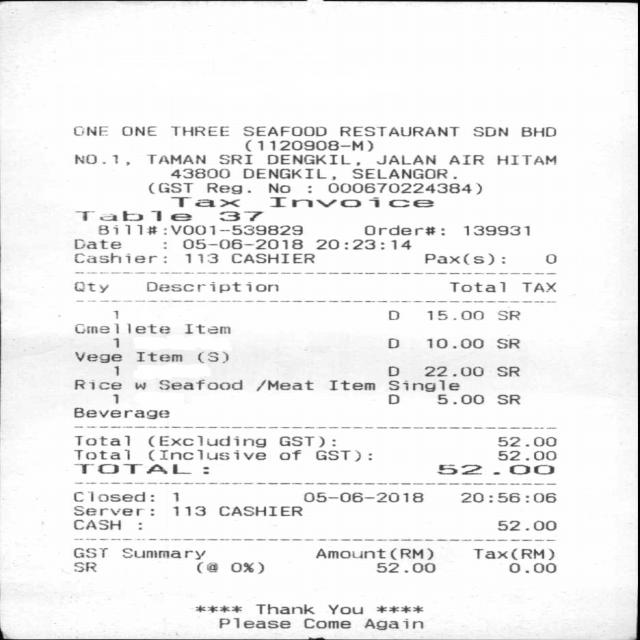text: (123, 224, 301, 235), (328, 182, 481, 194), (268, 197, 431, 207), (244, 139, 372, 151), (146, 281, 277, 292), (147, 435, 265, 447), (316, 548, 432, 560), (148, 449, 264, 460), (74, 463, 190, 474), (181, 238, 301, 248), (303, 492, 422, 502), (340, 126, 458, 136), (74, 210, 190, 220), (436, 464, 552, 474), (350, 168, 454, 178), (74, 322, 168, 333), (74, 407, 168, 418), (266, 154, 358, 165), (242, 168, 334, 179), (472, 548, 552, 560), (315, 239, 410, 249), (460, 492, 555, 502), (157, 379, 241, 390), (121, 548, 204, 559), (388, 379, 458, 392), (424, 253, 504, 264), (72, 490, 152, 501), (363, 224, 442, 235), (217, 506, 301, 516), (74, 252, 156, 262), (231, 252, 313, 262), (218, 617, 289, 628), (241, 126, 325, 135), (362, 618, 422, 630), (73, 506, 144, 516), (256, 379, 312, 391), (422, 365, 482, 376), (463, 225, 528, 235), (170, 197, 238, 206), (448, 281, 503, 292), (496, 436, 556, 446), (496, 450, 556, 460), (496, 520, 556, 530), (74, 448, 128, 459), (170, 168, 228, 178), (376, 562, 434, 572), (255, 603, 313, 613), (425, 338, 482, 348), (279, 436, 334, 446), (74, 154, 128, 164), (496, 155, 556, 164), (74, 435, 128, 445), (148, 182, 192, 194), (206, 182, 250, 194), (146, 154, 204, 163), (376, 155, 434, 164), (74, 351, 121, 362), (425, 310, 482, 319), (171, 126, 227, 135), (508, 562, 555, 572), (134, 351, 180, 361), (74, 379, 120, 389), (314, 450, 360, 460), (328, 380, 373, 390), (218, 210, 262, 220), (184, 323, 228, 333), (304, 618, 348, 628), (72, 239, 119, 248), (72, 520, 119, 529), (436, 394, 482, 403), (74, 281, 106, 292), (120, 126, 154, 136), (520, 126, 554, 136), (473, 126, 506, 136), (521, 282, 554, 292), (230, 562, 262, 572), (196, 352, 227, 362), (448, 155, 482, 164), (73, 126, 106, 135), (73, 548, 106, 557), (328, 604, 361, 613), (218, 154, 250, 163), (172, 506, 204, 515), (185, 253, 216, 262), (495, 338, 518, 348), (495, 366, 518, 376), (266, 182, 288, 192), (497, 310, 519, 320), (196, 561, 216, 572), (74, 562, 95, 572), (496, 394, 519, 403), (96, 224, 116, 234), (278, 449, 298, 459), (387, 365, 398, 376), (387, 338, 398, 348), (387, 310, 397, 319), (387, 394, 397, 403), (171, 491, 180, 501), (111, 337, 119, 348), (546, 253, 554, 263), (111, 394, 119, 404), (134, 382, 144, 389), (112, 310, 119, 319), (113, 365, 117, 375), (306, 185, 310, 192)
